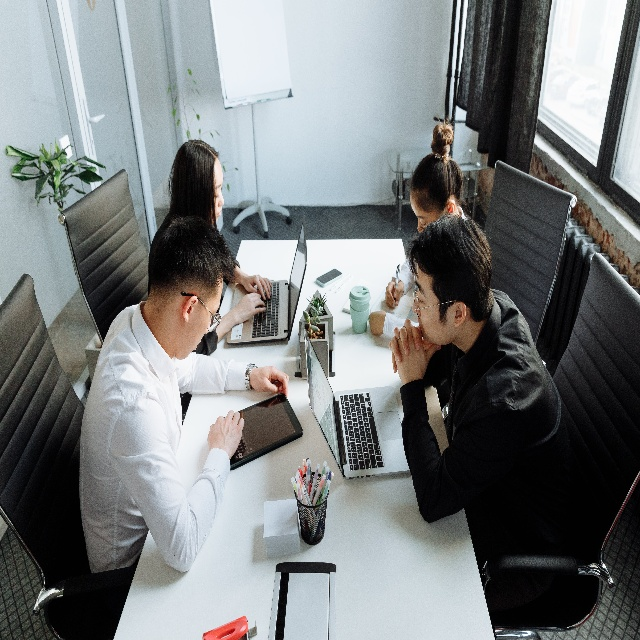Gafas: (412, 272, 458, 318), (181, 289, 221, 332)
Sin_guantes: (387, 318, 442, 386), (207, 407, 245, 460), (388, 318, 421, 374), (250, 365, 290, 400), (234, 292, 267, 324), (242, 271, 273, 302), (383, 279, 404, 310), (369, 310, 386, 337)
